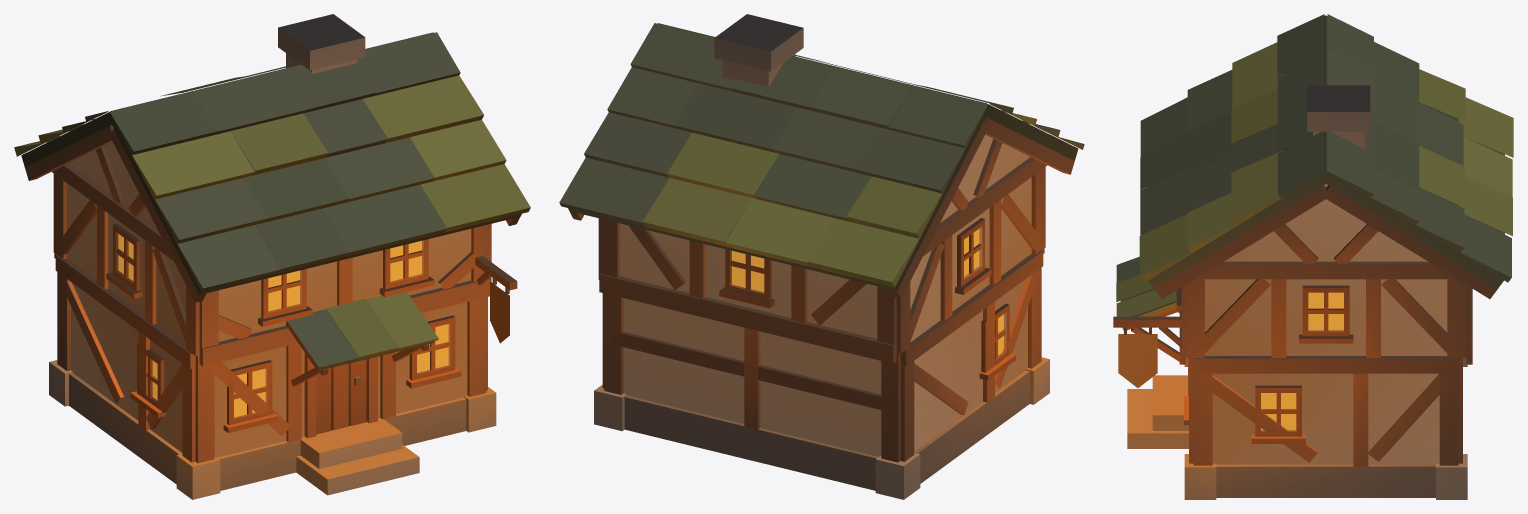
Rendered from tavern.glb.
3 views of the same model, side by side, from view 1: azimuth 30°, elevation 25°; view 2: azimuth 150°, elevation 25°; view 3: azimuth 270°, elevation 25° (orthographic). The views are drawn at different scales.
Visible parts, largest first — view 1: lit, glow; view 2: lit, glow; view 3: lit, glow.
Part boxes in pixels (x1,y1,x2,y2): lit: (14, 14, 530, 499); glow: (118, 234, 448, 417); lit: (559, 14, 1084, 499); glow: (732, 229, 1003, 355); lit: (1113, 14, 1513, 499); glow: (1261, 292, 1343, 430).
Bounding box in the file's own units: 5.9 × 6.2 × 6.34.
